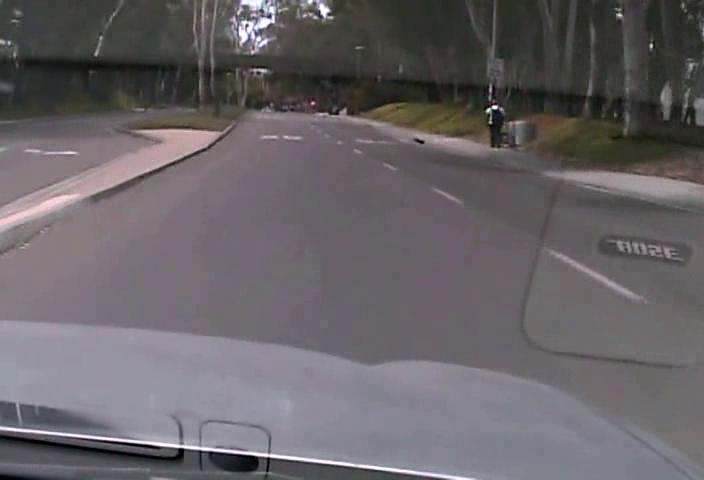speedLimitUrdbl: (485, 56, 503, 80)
